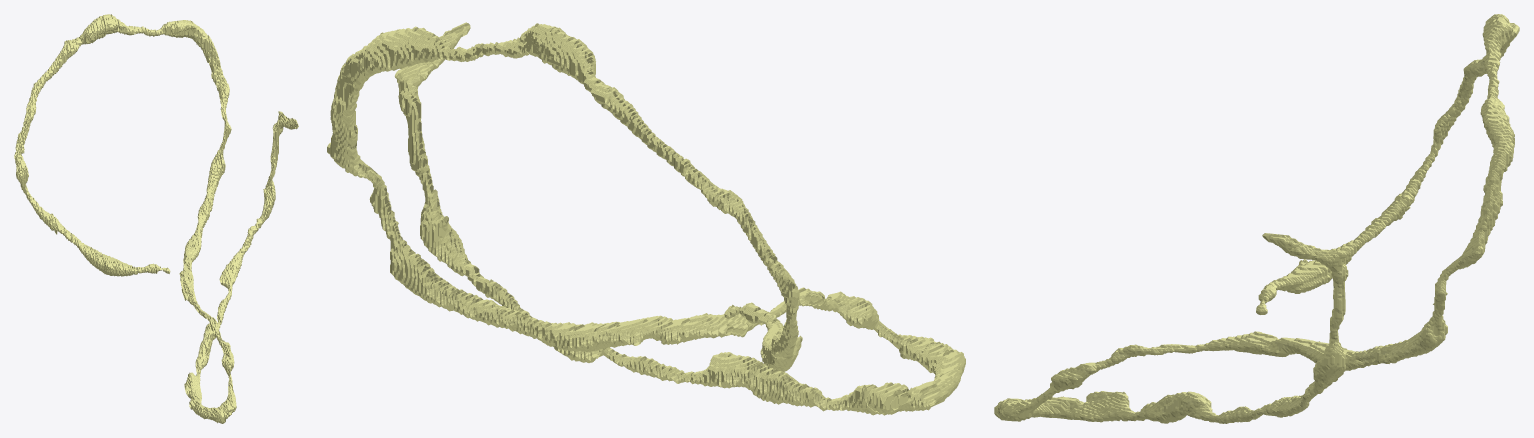
Rendered from SVV_RIAR.gltf.
3 views of the same model, side by side, from view 1: azimuth 30°, elevation 25°; view 2: azimuth 150°, elevation 25°; view 3: azimuth 270°, elevation 25° (orthographic). The views are drawn at different scales.
Visible parts, largest first — view 1: RIAR; view 2: RIAR; view 3: RIAR.
Part boxes in pixels (x1=…): RIAR: x1=14, y1=14, x2=298, y2=423; RIAR: x1=327, y1=22, x2=965, y2=415; RIAR: x1=994, y1=14, x2=1519, y2=423.
Size of the model in its own units: 121922 by 140507 by 153396.
